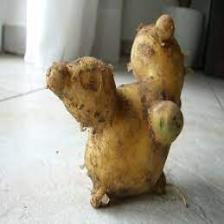Damaged potato: (48, 10, 186, 212)
